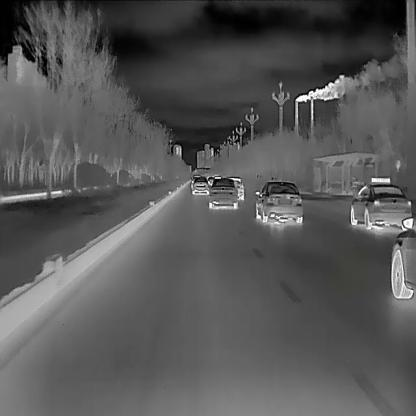car: (350, 176, 413, 230), (390, 215, 415, 300), (255, 181, 303, 225), (206, 179, 238, 208), (226, 176, 243, 201), (191, 178, 208, 195)
